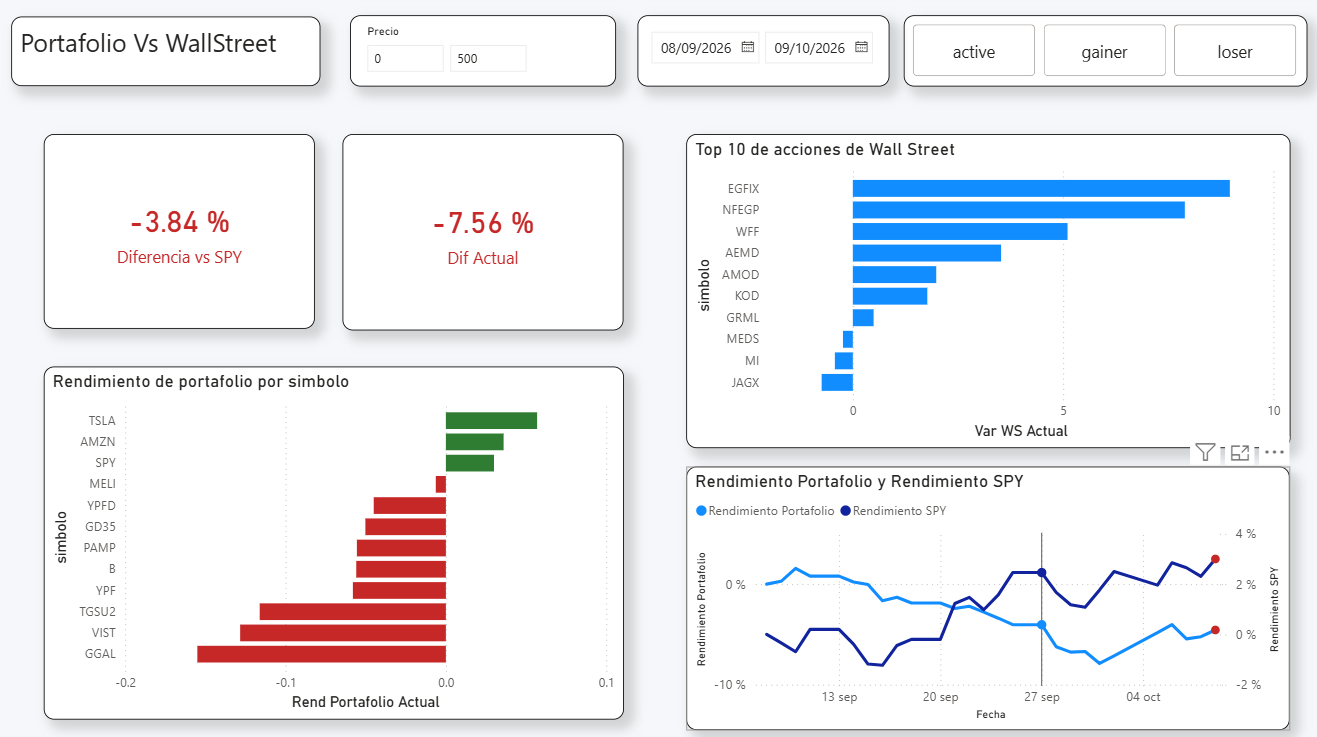

The dashboard page shown, as its layout file describes it:
{"tool":"powerbi","page":{"name":"Portafolio Vs Wallstreet","canvas":[1280,720],"ordinal":1},"visuals":[{"type":"advancedSlicerVisual","fields":{"Values":["Wall_Street_Top_Historico.categoria"]},"box":[877.1,20.1,389.5,68.5],"z":0},{"type":"clusteredBarChart","title":"Top 10 de acciones de Wall Street","fields":{"Category":["Wall_Street_Top_Historico (1).simbolo"],"Y":["Medidas_Rendimiento.Var WS Actual"]},"box":[667.5,135.7,582.9,303.5],"z":1000},{"type":"lineChart","title":"Rendimiento Portafolio y Rendimiento SPY","fields":{"Y":["Mi_portafolio_historico.Rendimiento Portafolio"],"Y2":["Mi_portafolio_historico.SPY"],"Category":["Calendario.Fecha"]},"box":[667.5,466.1,582.9,253.9],"z":2000},{"type":"slicer","fields":{"Values":["Wall_Street_Top_Historico.fecha_hora"]},"box":[620.5,20.1,243.1,68.5],"z":3000},{"type":"card","fields":{"Values":["Mi_portafolio_historico.Diferencia vs SPY"]},"box":[47,135.7,261.9,188],"z":4000},{"type":"slicer","fields":{"Values":["Wall_Street_Top_Historico.precio"]},"box":[342.5,20.1,256.5,68.5],"z":5000},{"type":"card","fields":{"Values":["Medidas_Rendimiento.Dif Actual"]},"box":[335.8,135.7,271.3,189.4],"z":6000},{"type":"clusteredBarChart","title":"Rendimiento de portafolio por simbolo","fields":{"Category":["Mi_portafolio_historico.simbolo"],"Y":["Medidas_Rendimiento.Rend Portafolio Actual"]},"box":[47,360,560.1,341.2],"z":7000},{"type":"textbox","box":[16.1,21.5,298.2,67.2],"z":8000}]}

Visuals, with their boxes in screenshot pixels (x1, y1, x2, y2), scaled from the page's 1280x720 canvas onto the 1317x737 screenshot:
advancedSlicerVisual - Wall_Street_Top_Historico.categoria: pyautogui.locateOnScreen(902, 21, 1303, 91)
"Top 10 de acciones de Wall Street" clusteredBarChart: pyautogui.locateOnScreen(687, 139, 1287, 450)
"Rendimiento Portafolio y Rendimiento SPY" lineChart: pyautogui.locateOnScreen(687, 477, 1287, 736)
slicer - Wall_Street_Top_Historico.fecha_hora: pyautogui.locateOnScreen(638, 21, 889, 91)
card - Mi_portafolio_historico.Diferencia vs SPY: pyautogui.locateOnScreen(48, 139, 318, 331)
slicer - Wall_Street_Top_Historico.precio: pyautogui.locateOnScreen(352, 21, 616, 91)
card - Medidas_Rendimiento.Dif Actual: pyautogui.locateOnScreen(346, 139, 625, 333)
"Rendimiento de portafolio por simbolo" clusteredBarChart: pyautogui.locateOnScreen(48, 368, 625, 718)
textbox: pyautogui.locateOnScreen(17, 22, 323, 91)
